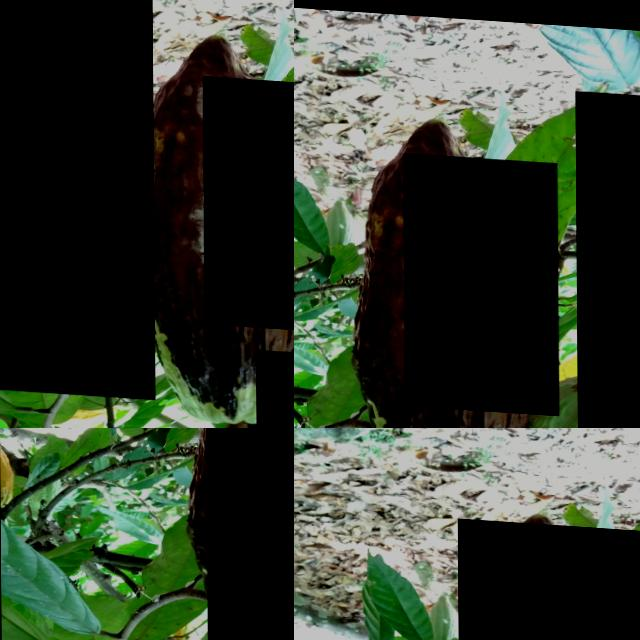Monilia: (404, 150, 558, 410), (202, 72, 294, 326), (458, 515, 640, 640), (575, 85, 640, 428), (205, 428, 294, 640)
Sana: (0, 0, 154, 396)
